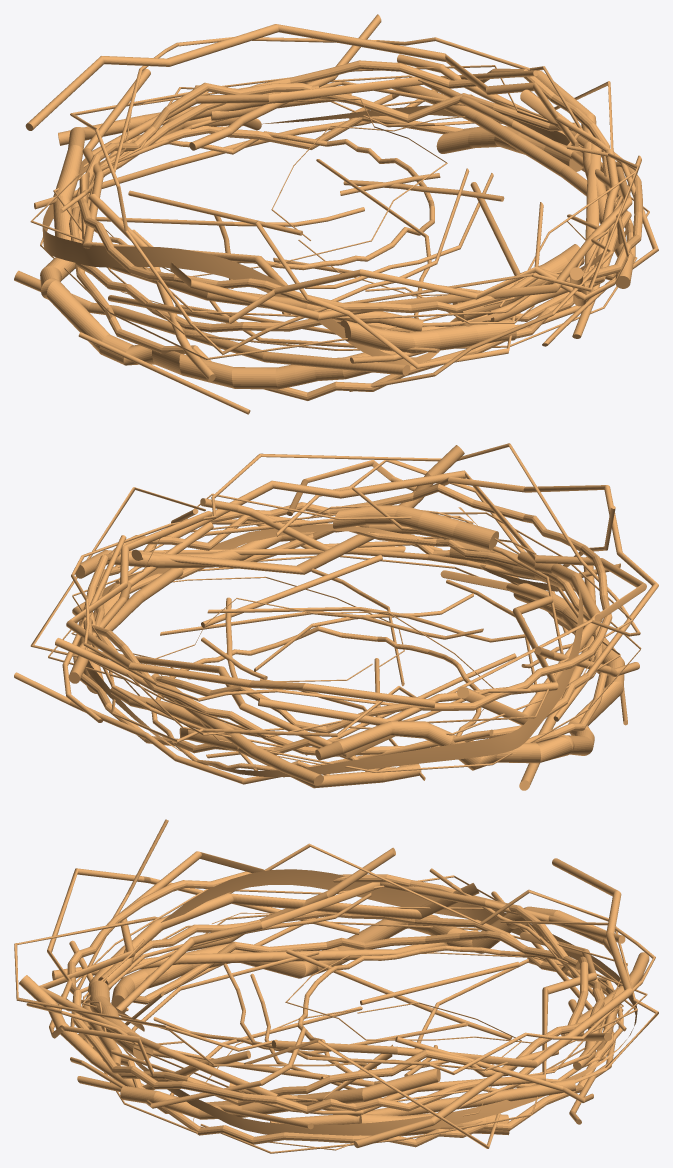
Rendered from nest2.fbx.
3 views of the same model, one above another, from view 1: azimuth 30°, elevation 25°; view 2: azimuth 150°, elevation 25°; view 3: azimuth 270°, elevation 25° (orthographic). The views are drawn at different scales.
Visible parts, largest first — view 1: Torus.004; view 2: Torus.004; view 3: Torus.004.
Boxes of the visible parts, <box> form: Torus.004: <box>14,14,658,414</box>; Torus.004: <box>14,443,658,790</box>; Torus.004: <box>14,819,658,1153</box>.
Bounding box in the file's own units: 293 × 95.86 × 316.
